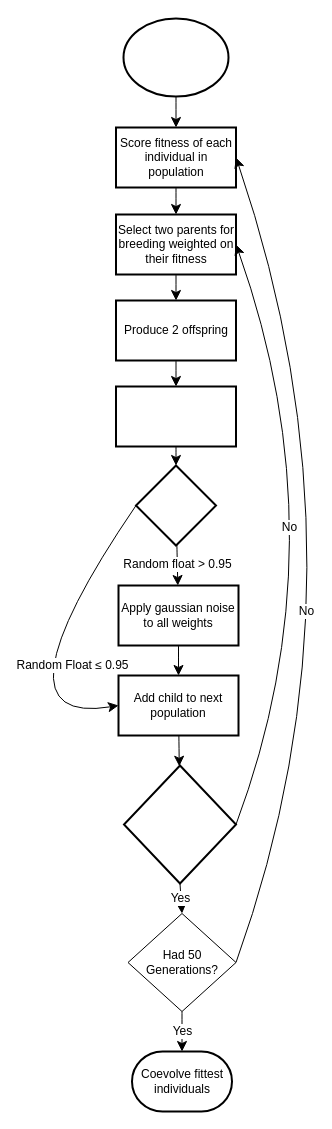
The diagram is 332 pixels wide and 1129 high, and some of its shapes have lost their labels. Each missing label, with the centre of its shape:
Generate initial population: the point at 175,57
Mutate?: the point at 175,505
Next population size is 100?: the point at 179,824
Select fitter child: the point at 175,416
